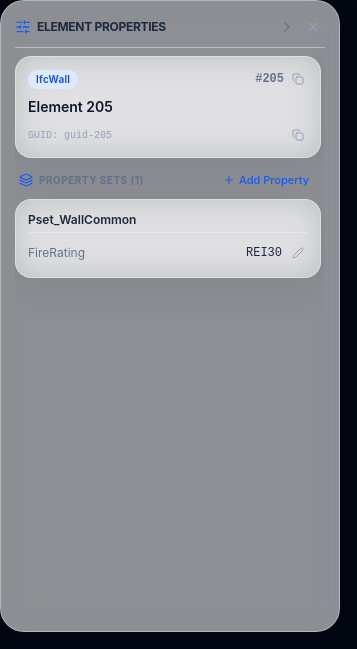
Test: STEP-29 inspector behaviour › reverts the value and shows a persistent inline error when the save fails
Click the button with test id "property-edit-btn" at (298, 252), box [288,242,308,262]
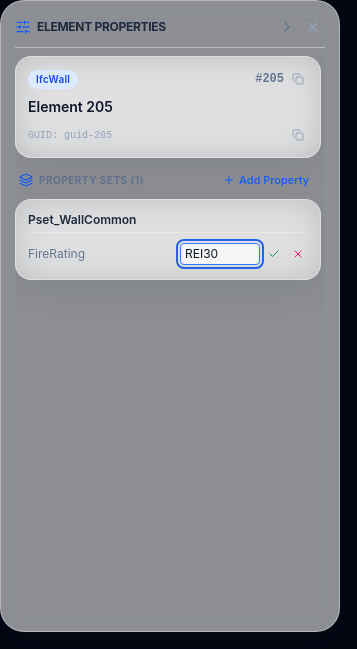
Expected: the field with test id "property-edit-input" is shown
Replace the text in the field with test id "property-edit-input" with "REI60" at (220, 254), box [180,242,260,264]
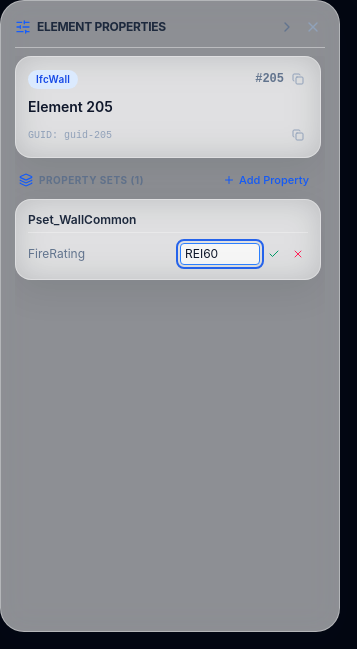
Click the button with test id "property-edit-btn" at (274, 254), box [264,244,284,264]
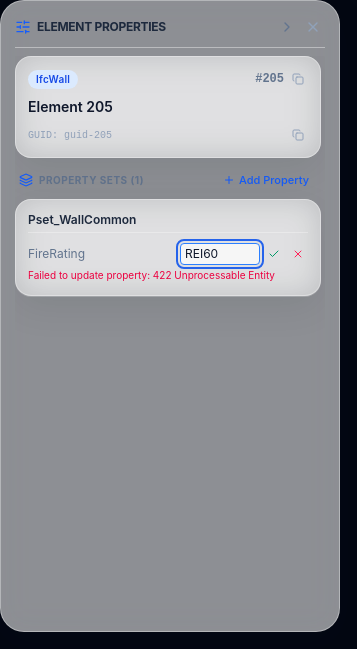
Expected: the message shows "Failed to update property: 422", [28,268,275,280]
Expected: the message "Failed to update property: 422 Unprocessable Entity" is shown, [28,268,308,281]
Click the button with test id "property-cancel-btn" at (298, 254), box [288,244,308,264]
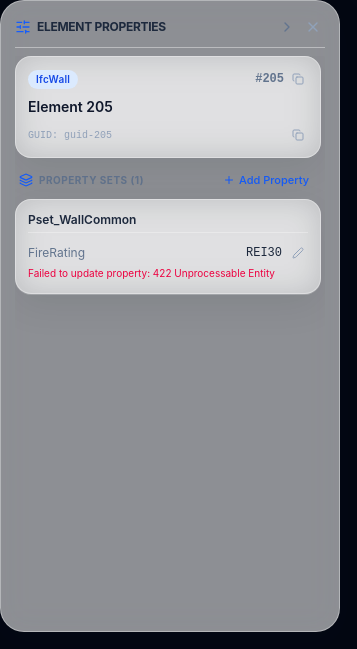
Expected: the text "REI60" is not shown
Expected: the text "REI30" is shown, [246,244,282,260]
